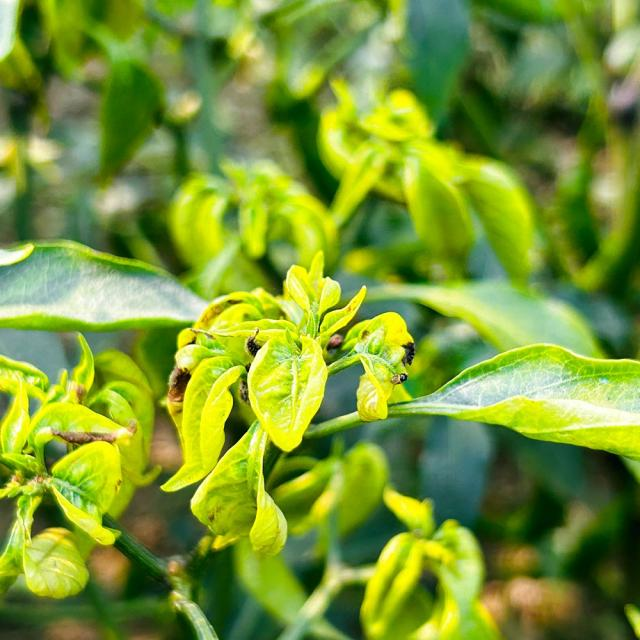Chilli_Leaf_Curl: (1, 5, 638, 635), (159, 250, 415, 558), (316, 80, 540, 290), (0, 332, 154, 600), (384, 341, 639, 462), (359, 488, 501, 638), (0, 237, 211, 332), (188, 420, 288, 557), (245, 328, 328, 453), (337, 310, 416, 422)
